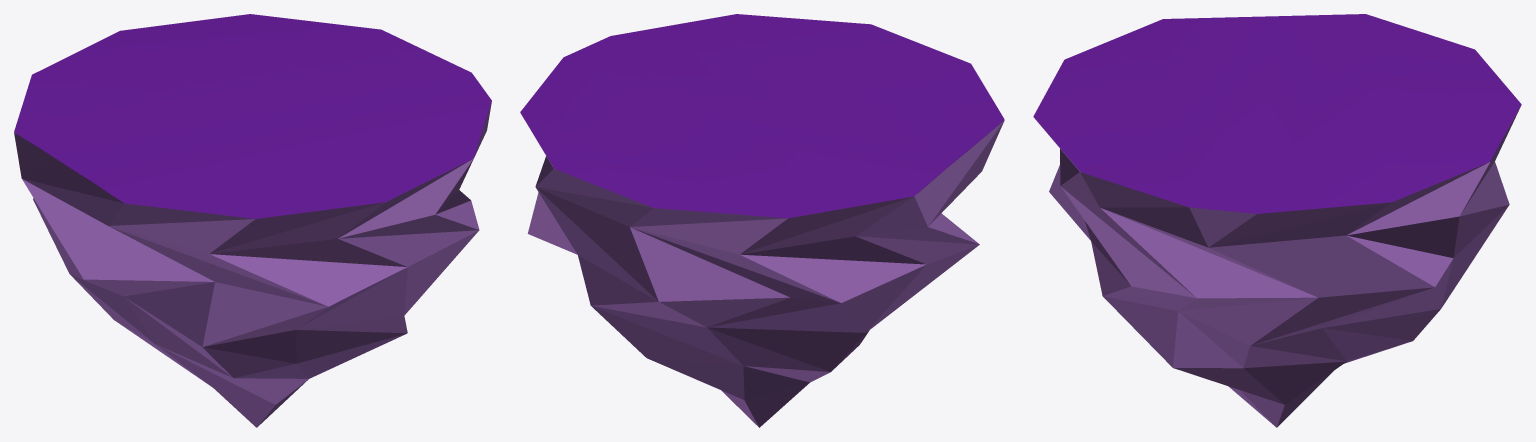
The model's file is ejCanastas_Isla.fbx.
3 views of the same model, side by side, from view 1: azimuth 30°, elevation 25°; view 2: azimuth 150°, elevation 25°; view 3: azimuth 270°, elevation 25° (orthographic).
Parts seen in each view (by area): view 1: suelo, parteInferior; view 2: suelo, parteInferior; view 3: suelo, parteInferior.
Part boxes in pixels (box(x1,y1,x2,y2)): suelo: box(14, 14, 491, 218); parteInferior: box(14, 101, 491, 427); suelo: box(520, 14, 1004, 218); parteInferior: box(520, 113, 1004, 427); suelo: box(1033, 14, 1521, 213); parteInferior: box(1033, 105, 1521, 427).
Bounding box in the file's own units: 63.13 × 46.32 × 64.87.
